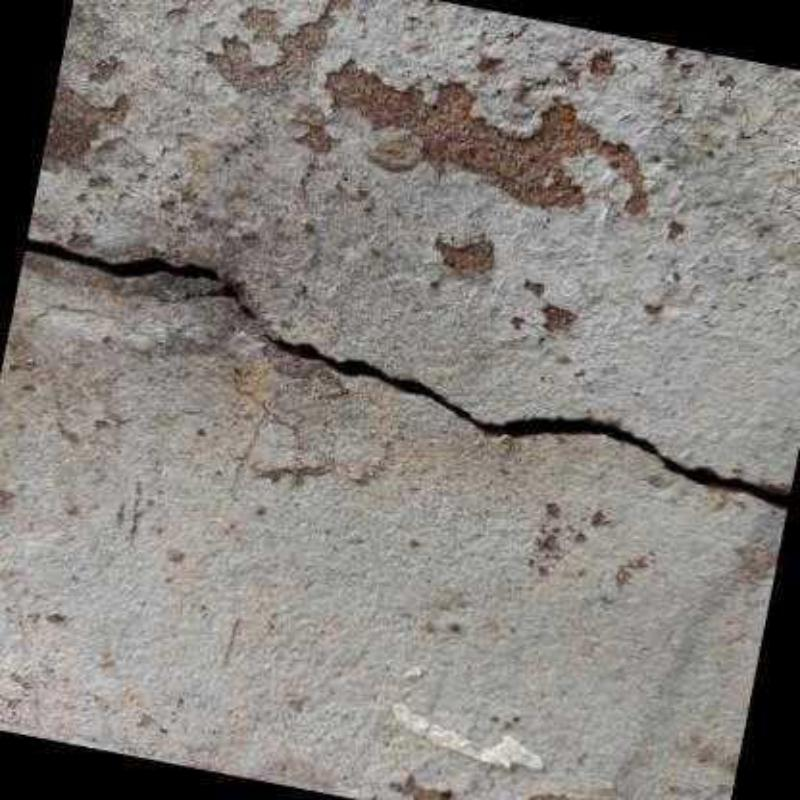crack: (256, 328, 792, 512), (24, 234, 259, 320)
